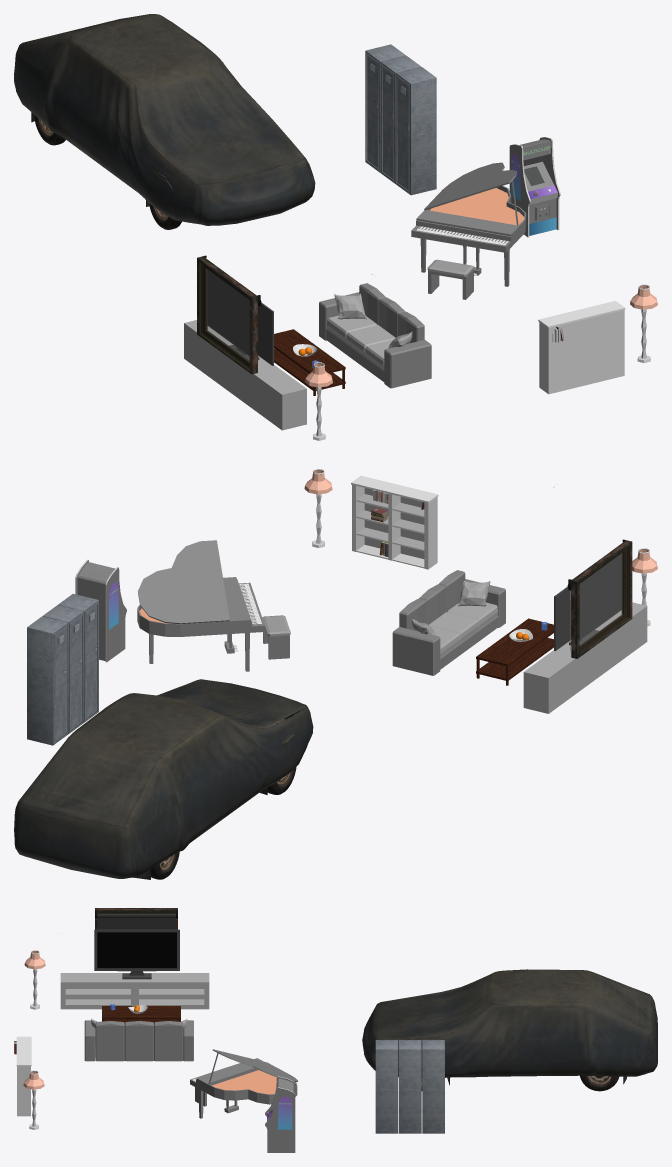
The model's file is map_assets_3.glb.
3 views of the same model, one above another, from view 1: azimuth 30°, elevation 25°; view 2: azimuth 150°, elevation 25°; view 3: azimuth 270°, elevation 25° (orthographic). The views are drawn at different scales.
Visible parts, largest first — view 1: covered_car, instrument_piano, furniture_couch_basic, furniture_storage_bookshelf, TV bench, Object_4.013, furniture_game_arcade, up_glass_0, Panel, table, f__0, Object_4.005 (+8 smaller); view 2: covered_car, instrument_piano, furniture_couch_basic, furniture_storage_bookshelf, TV bench, Object_4.055, furniture_game_arcade, table, up_glass_0, Panel, f__0, Object_4.005 (+8 smaller); view 3: covered_car, TV bench, furniture_couch_basic, TV, instrument_piano, Object_4.013, Object_4.055, Object_4.001, furniture_game_arcade, table, furniture_storage_bookshelf, Panel (+4 smaller).
Part boxes in pixels (bbox=[...]): covered_car: bbox=[14, 14, 315, 229]; instrument_piano: bbox=[411, 162, 526, 299]; furniture_couch_basic: bbox=[319, 283, 431, 388]; furniture_storage_bookshelf: bbox=[538, 301, 625, 394]; TV bench: bbox=[184, 320, 306, 430]; Object_4.013: bbox=[396, 67, 436, 195]; furniture_game_arcade: bbox=[509, 137, 560, 237]; up_glass_0: bbox=[207, 269, 249, 360]; Panel: bbox=[207, 269, 249, 355]; table: bbox=[274, 329, 345, 395]; f__0: bbox=[197, 256, 257, 374]; Object_4.005: bbox=[382, 67, 394, 179]; covered_car: bbox=[14, 679, 313, 879]; instrument_piano: bbox=[137, 540, 290, 671]; furniture_couch_basic: bbox=[392, 570, 505, 675]; furniture_storage_bookshelf: bbox=[351, 475, 438, 569]; TV bench: bbox=[523, 602, 647, 713]; Object_4.055: bbox=[27, 616, 67, 745]; furniture_game_arcade: bbox=[75, 559, 126, 662]; table: bbox=[476, 618, 553, 685]; up_glass_0: bbox=[580, 553, 622, 645]; Panel: bbox=[579, 553, 621, 640]; f__0: bbox=[571, 540, 632, 658]; Object_4.005: bbox=[70, 616, 82, 729]; covered_car: bbox=[362, 969, 657, 1091]; TV bench: bbox=[60, 973, 209, 1009]; furniture_couch_basic: bbox=[84, 1018, 193, 1061]; TV: bbox=[94, 929, 179, 979]; instrument_piano: bbox=[190, 1049, 297, 1118]; Object_4.013: bbox=[375, 1040, 398, 1133]; Object_4.055: bbox=[422, 1040, 444, 1133]; Object_4.001: bbox=[399, 1040, 421, 1133]; furniture_game_arcade: bbox=[265, 1076, 295, 1152]; table: bbox=[102, 1006, 180, 1022]; furniture_storage_bookshelf: bbox=[16, 1036, 31, 1116]; Panel: bbox=[97, 918, 175, 929].
Size of the model in its own units: 9.08 by 2.83 by 15.88.
53 materials, 32 textured.
